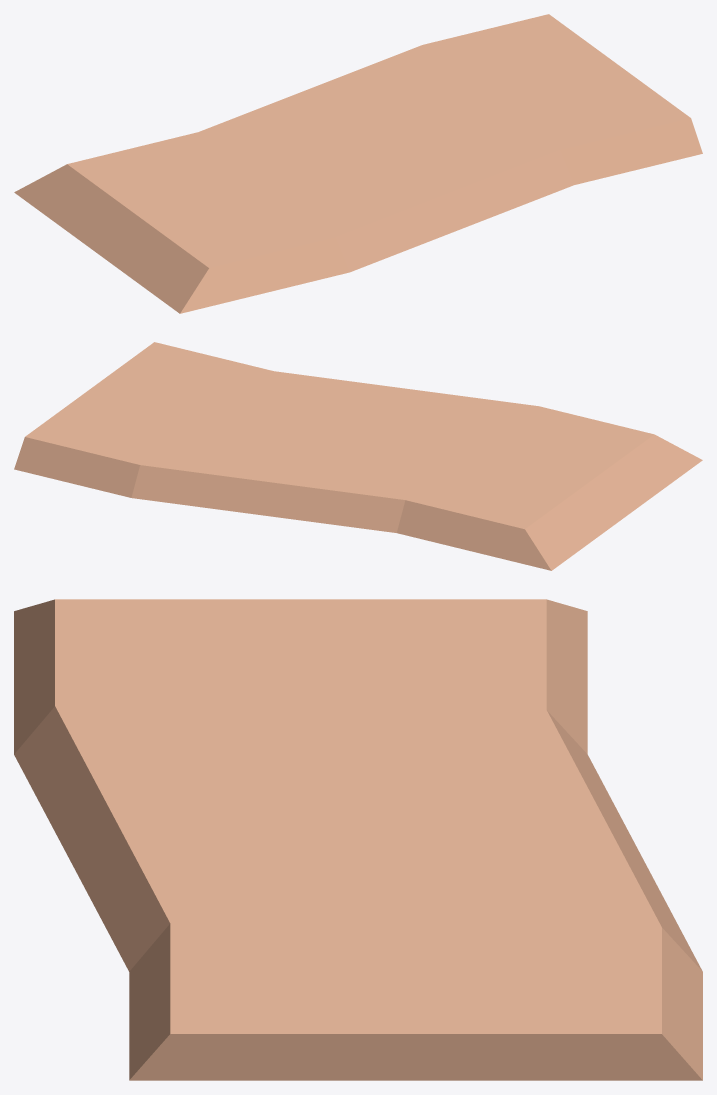
File: path_end.glb
3 views of the same model, one above another, from view 1: azimuth 30°, elevation 25°; view 2: azimuth 150°, elevation 25°; view 3: azimuth 270°, elevation 25° (orthographic). The views are drawn at different scales.
Visible parts, largest first — view 1: path_end; view 2: path_end; view 3: path_end.
Part boxes in pixels (bbox=[...]): path_end: bbox=[14, 14, 702, 313]; path_end: bbox=[14, 342, 702, 570]; path_end: bbox=[14, 599, 702, 1080].
Size of the model in its own units: 0.54 by 0.025 by 0.335.
